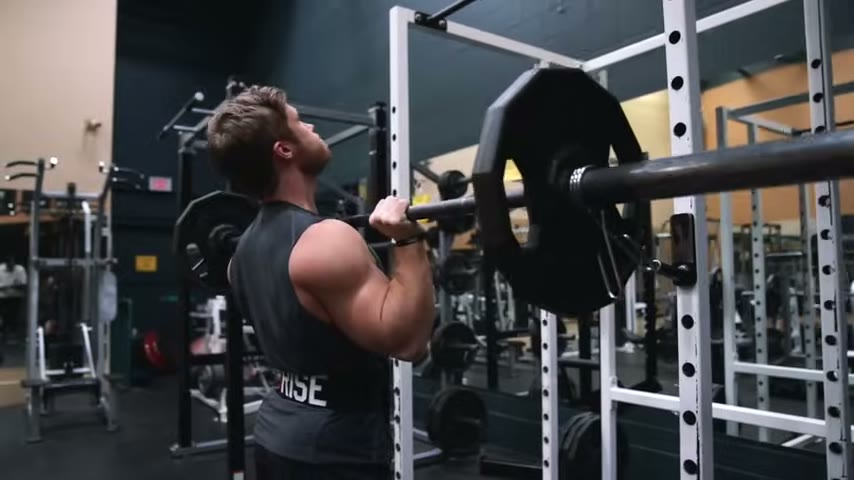barbell_plate_side: (569, 0, 665, 325)
